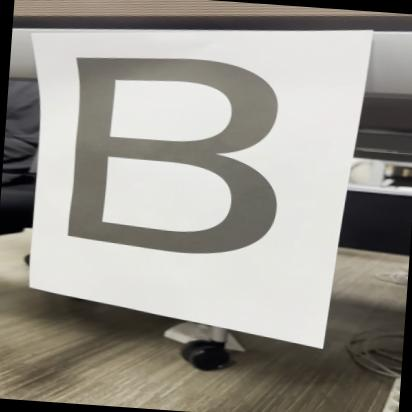seat: (42, 46, 352, 282)
